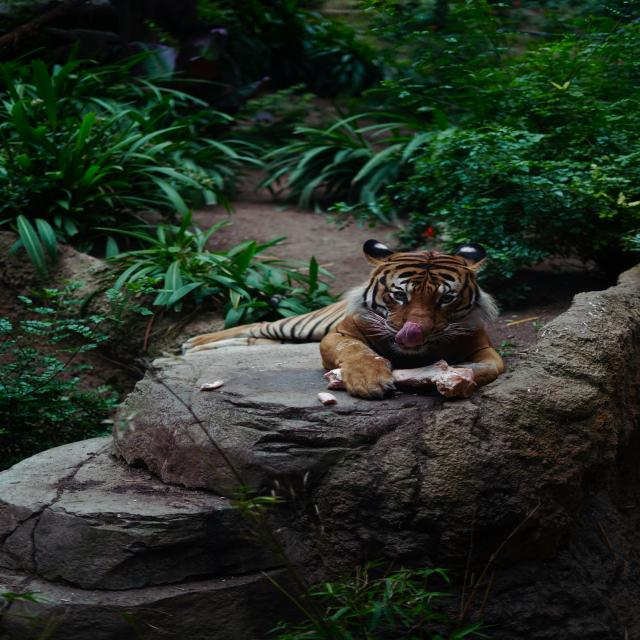Tiger: (182, 239, 504, 400)
